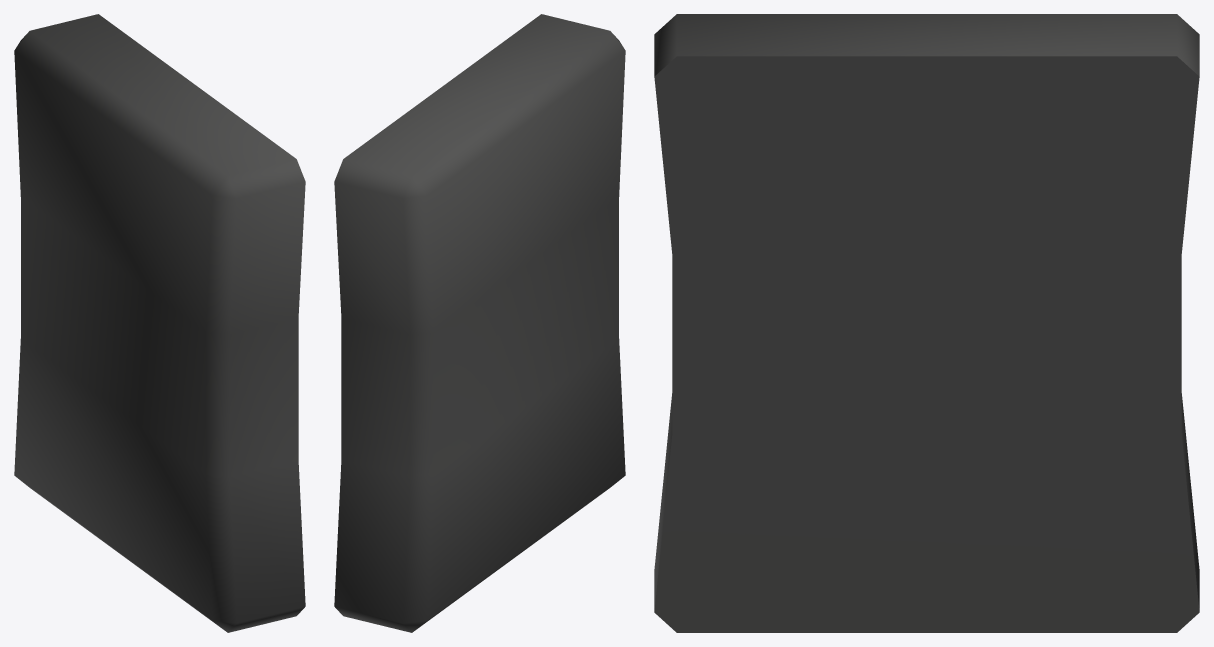
Rendered from Table_2_2.obj.
3 views of the same model, side by side, from view 1: azimuth 30°, elevation 25°; view 2: azimuth 150°, elevation 25°; view 3: azimuth 270°, elevation 25° (orthographic). The views are drawn at different scales.
Visible parts, largest first — view 1: Table_2_2; view 2: Table_2_2; view 3: Table_2_2.
Part boxes in pixels (box(x1,y1,x2,y2)): Table_2_2: box(14, 14, 305, 632); Table_2_2: box(334, 14, 625, 632); Table_2_2: box(654, 14, 1199, 632).
Bounding box in the file's own units: 0.0894 × 0.4635 × 0.3972.
